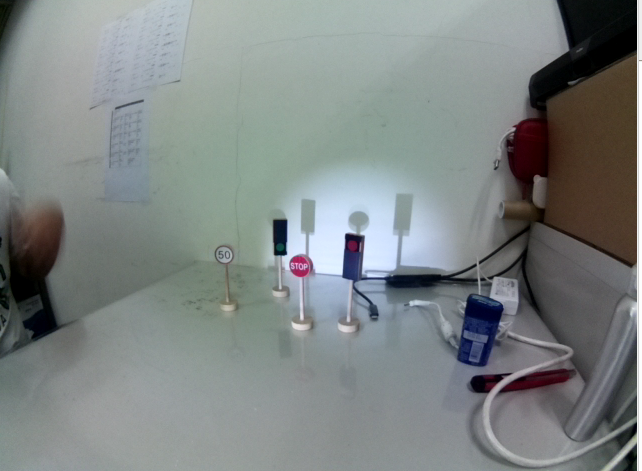Green: (270, 217, 288, 262)
Red: (341, 230, 366, 285)
Speed50: (212, 244, 237, 268)
Stop: (289, 254, 315, 282)
